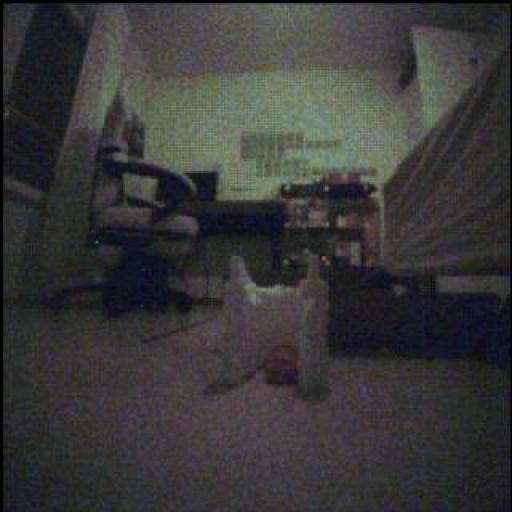basket: (265, 342, 298, 386)
